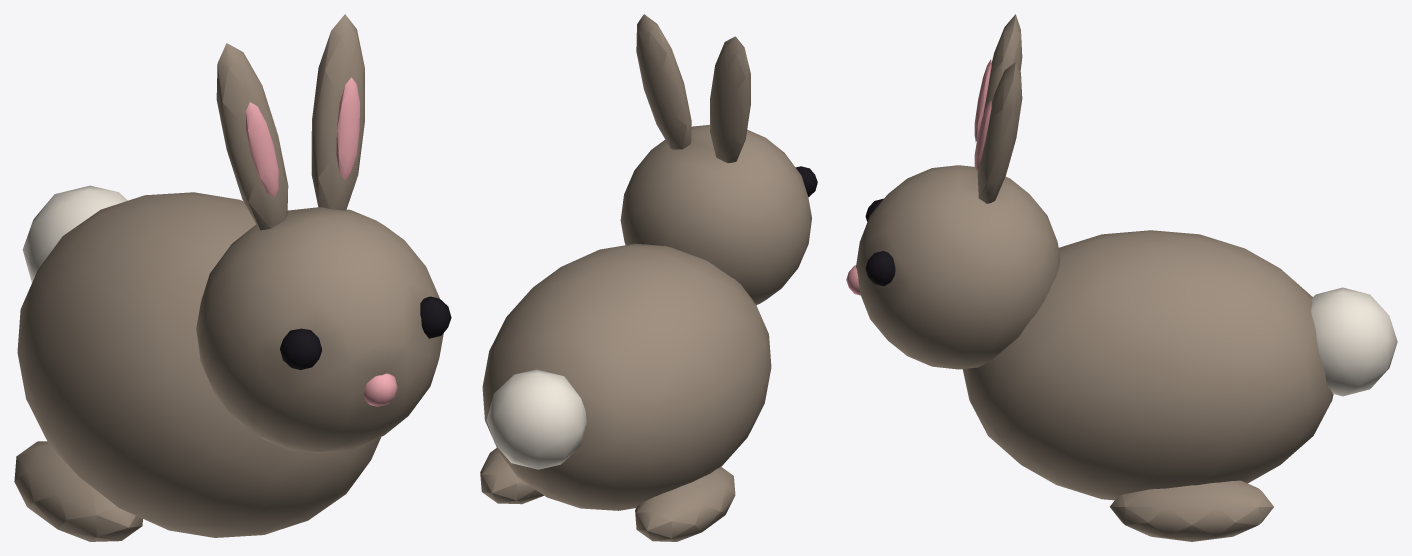
File: rabbit.glb
The picture shows the model from 3 angles, left to right: view 1: azimuth 30°, elevation 25°; view 2: azimuth 150°, elevation 25°; view 3: azimuth 270°, elevation 25°; orthographic projection. The views are drawn at different scales.
Visible parts, largest first — view 1: rabbit; view 2: rabbit; view 3: rabbit.
Boxes of the visible parts, x1,y1,x2,y2 form: rabbit: [14, 14, 451, 541]; rabbit: [480, 14, 817, 541]; rabbit: [846, 14, 1397, 541].
Bounding box in the file's own units: 0.209 × 0.3685 × 0.402.
